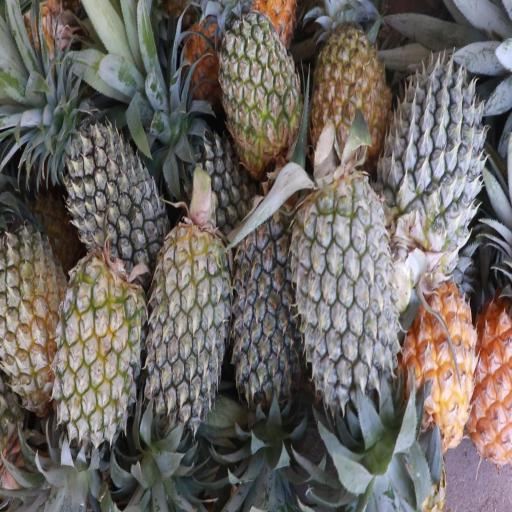------------------------------: (56, 249, 144, 444), (216, 0, 305, 176), (0, 227, 70, 424)
Pineapple - v8 v1: (407, 279, 477, 452), (314, 23, 393, 171)
